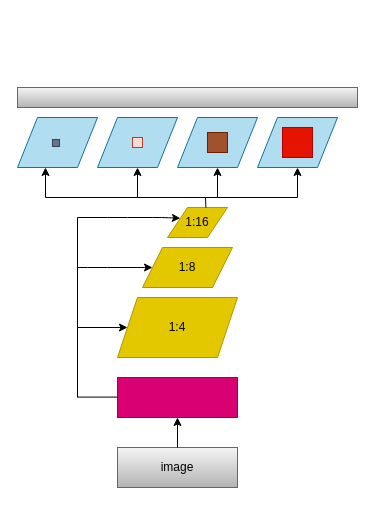
The diagram is 375 pixels wide and 505 high, and some of its shapes have lost their labels. Here are the shapes that lost their labels. From the top down, the centre of each, then its label:
At point (187, 97): "Atrous Spatital Pyramid Pooling".
At point (177, 397): "ResNet-50 backbone".
